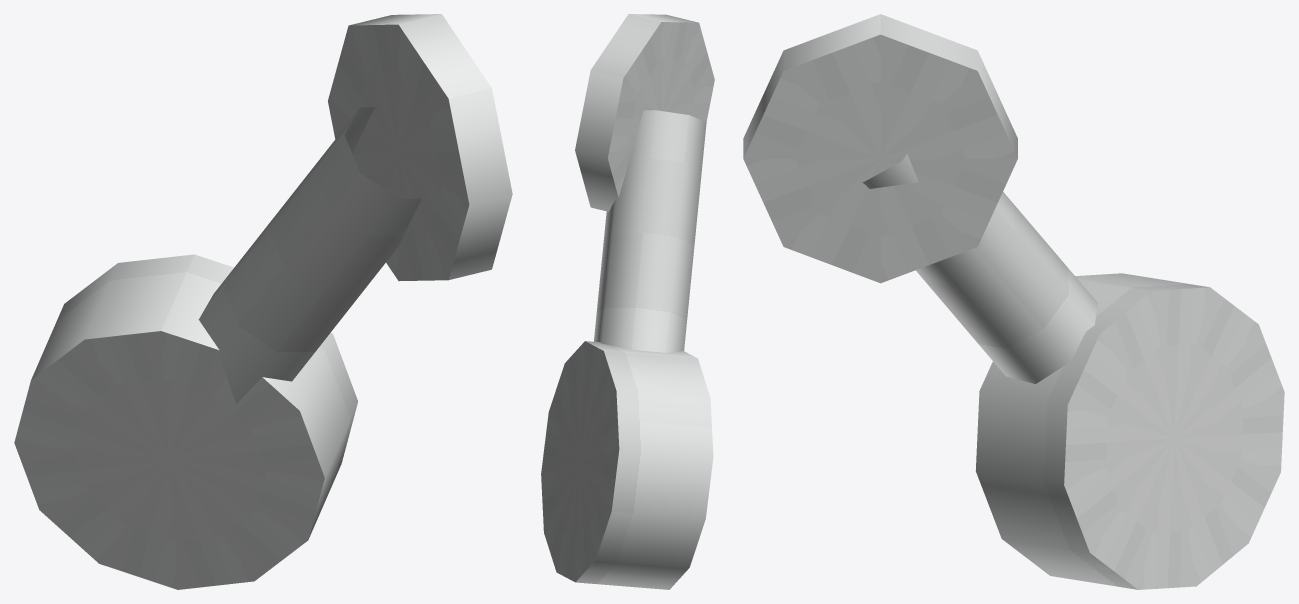
The model's file is nycsignalarm_stub_206.obj.
3 views of the same model, side by side, from view 1: azimuth 30°, elevation 25°; view 2: azimuth 150°, elevation 25°; view 3: azimuth 270°, elevation 25° (orthographic). The views are drawn at different scales.
Parts seen in each view (by area): view 1: nycsignalarm_stub_206; view 2: nycsignalarm_stub_206; view 3: nycsignalarm_stub_206.
Part boxes in pixels (<box>): nycsignalarm_stub_206: <box>14,14,512,589</box>; nycsignalarm_stub_206: <box>541,14,714,589</box>; nycsignalarm_stub_206: <box>743,14,1284,589</box>.
Bounding box in the file's own units: 0.3936 × 0.854 × 0.6899.
